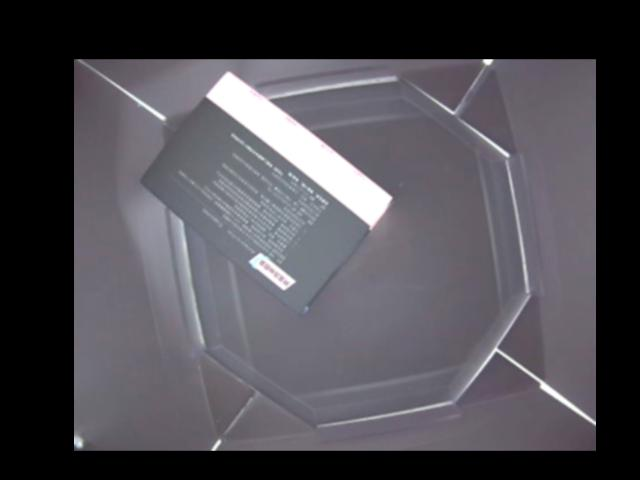Medicine: (140, 71, 393, 313)
